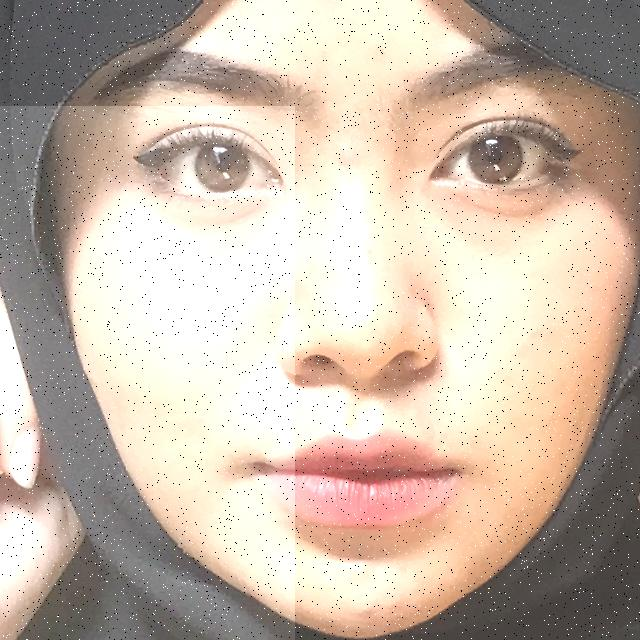ibu: (0, 106, 295, 640), (0, 106, 5, 136)
